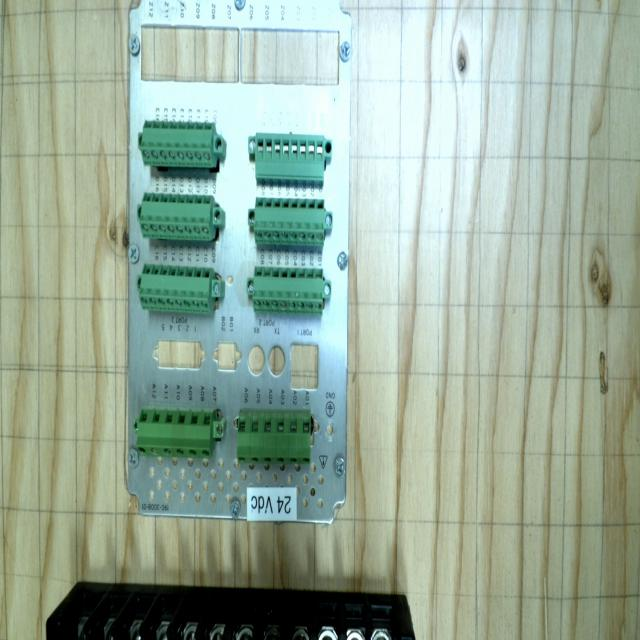Terminal_1: (136, 408, 213, 459), (237, 412, 311, 464)
Terminal_2: (138, 263, 212, 313), (139, 192, 213, 240), (252, 266, 324, 315), (253, 197, 325, 246), (140, 121, 214, 168)
